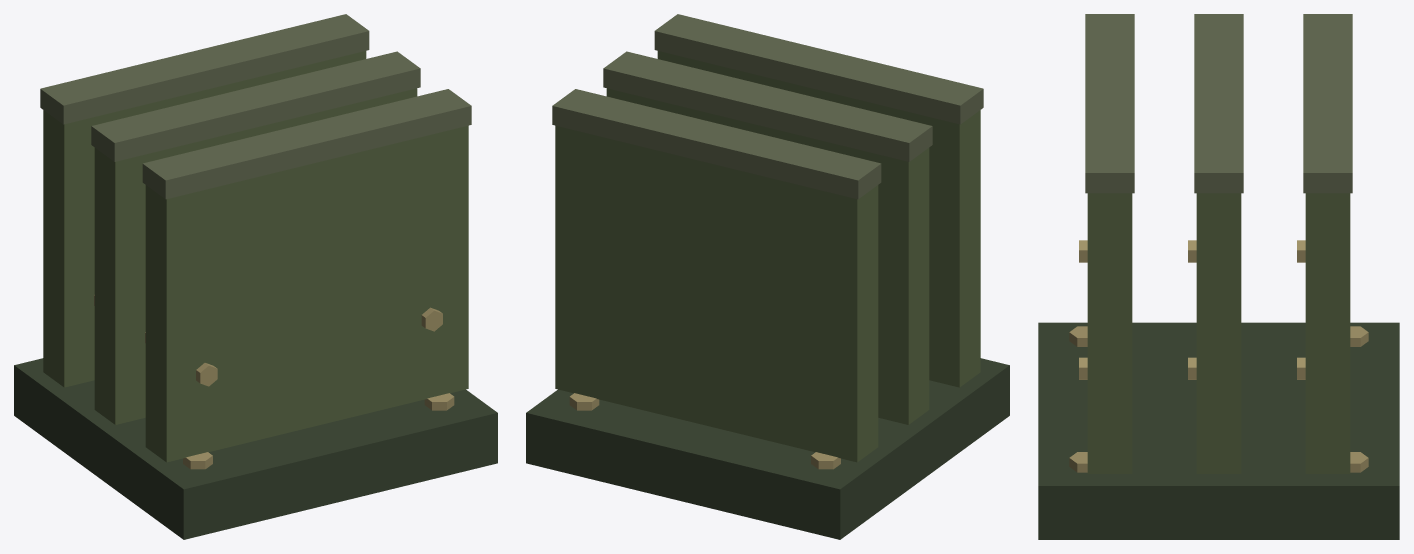
Rendered from armor.obj.
3 renders of one model, left to right at view 1: azimuth 30°, elevation 25°; view 2: azimuth 150°, elevation 25°; view 3: azimuth 270°, elevation 25°, orthographic. The views are drawn at different scales.
Visible parts, largest first — view 1: BASE.011; view 2: BASE.011; view 3: BASE.011.
Boxes of the visible parts, bbox=[...] form: BASE.011: bbox=[14, 14, 497, 539]; BASE.011: bbox=[526, 14, 1009, 539]; BASE.011: bbox=[1038, 14, 1399, 539].
Size of the model in its own units: 0.78 by 0.8125 by 0.73.
Materials: 1 (1 with a texture image).
